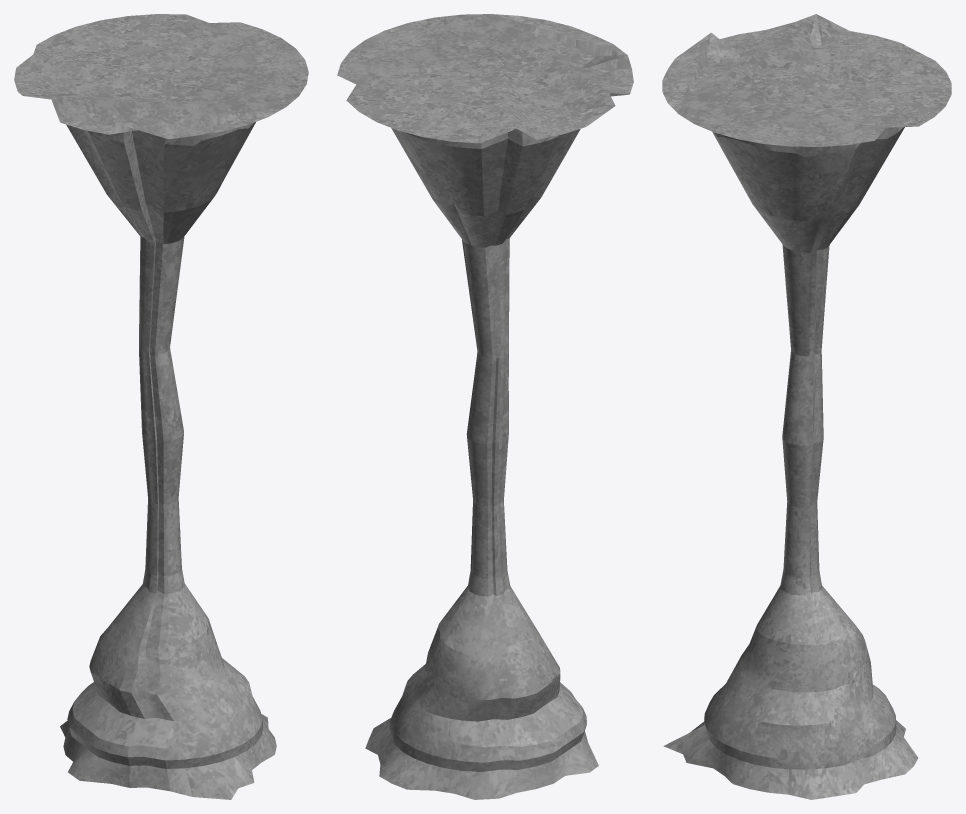
Rendered from CaveVine .fbx.
The picture shows the model from 3 angles, left to right: view 1: azimuth 30°, elevation 25°; view 2: azimuth 150°, elevation 25°; view 3: azimuth 270°, elevation 25°; orthographic projection. The views are drawn at different scales.
Visible parts, largest first — view 1: cave vine; view 2: cave vine; view 3: cave vine.
Part boxes in pixels (x1,y1,x2,y2): cave vine: [14, 14, 308, 799]; cave vine: [337, 14, 633, 799]; cave vine: [662, 14, 951, 799].
Bounding box in the file's own units: 282 × 703 × 275.
